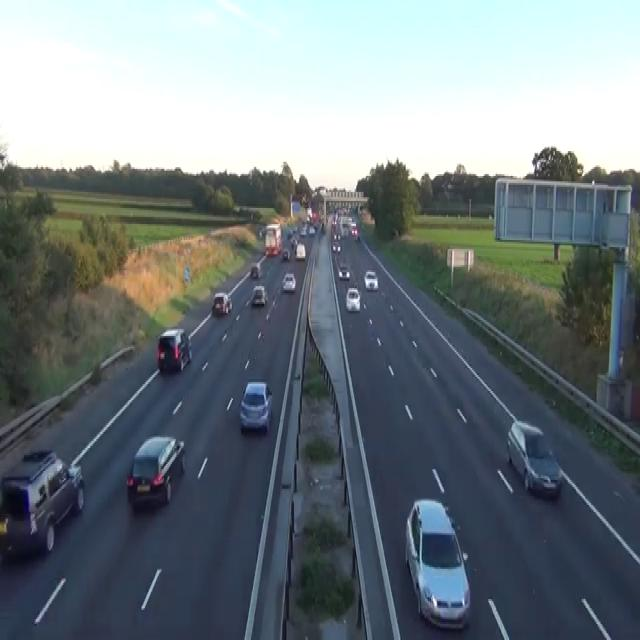Car: (0, 448, 84, 558), (404, 498, 470, 629), (506, 420, 562, 498), (126, 434, 185, 508), (239, 380, 272, 432), (157, 327, 192, 372), (211, 292, 232, 314), (345, 286, 360, 311), (251, 284, 267, 306), (281, 272, 296, 292), (363, 270, 378, 290), (295, 242, 305, 260), (338, 265, 350, 279), (250, 263, 260, 277), (225, 297, 232, 313), (282, 247, 290, 260), (350, 222, 358, 235), (290, 237, 298, 250), (331, 242, 341, 252), (300, 224, 307, 236), (258, 226, 266, 236), (333, 233, 341, 242), (354, 231, 360, 242), (308, 226, 315, 234), (287, 230, 293, 238), (331, 242, 336, 250), (336, 244, 341, 252), (321, 224, 325, 233)
Truck: (264, 222, 282, 256)
